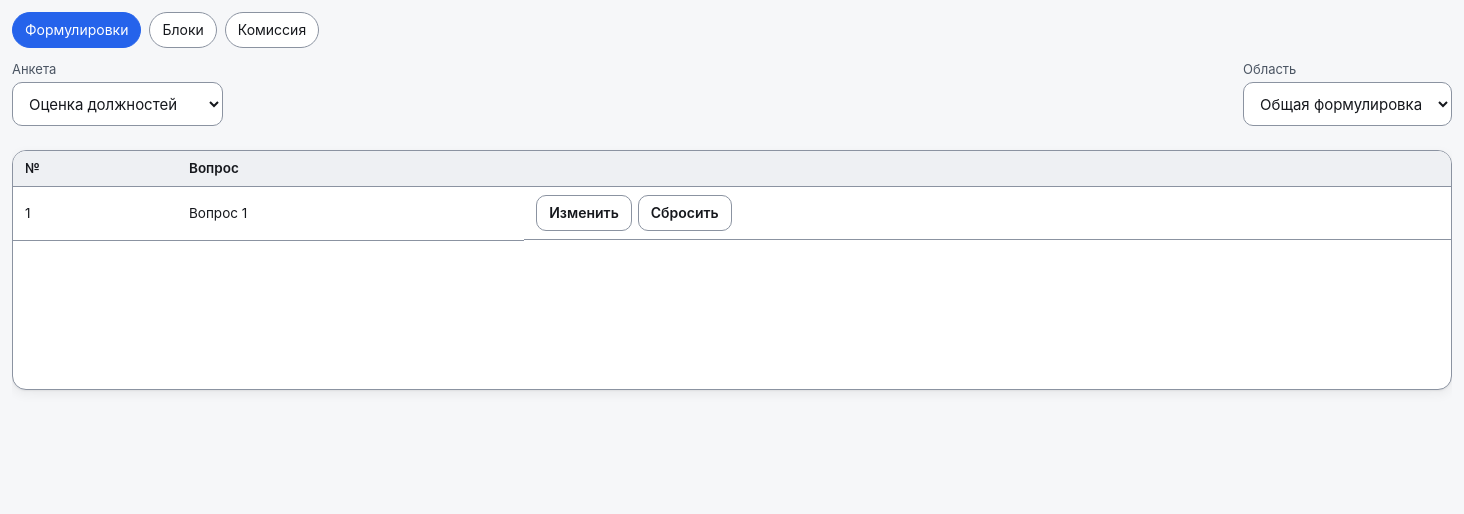
it: вкладки переключаются независимо
The width and height of the screenshot is (1464, 514).
Expected: the text "Вопрос 1" is shown, [177,187,524,240]
Click the button "Блоки". click: (183, 30)
box: [150,12,217,48]
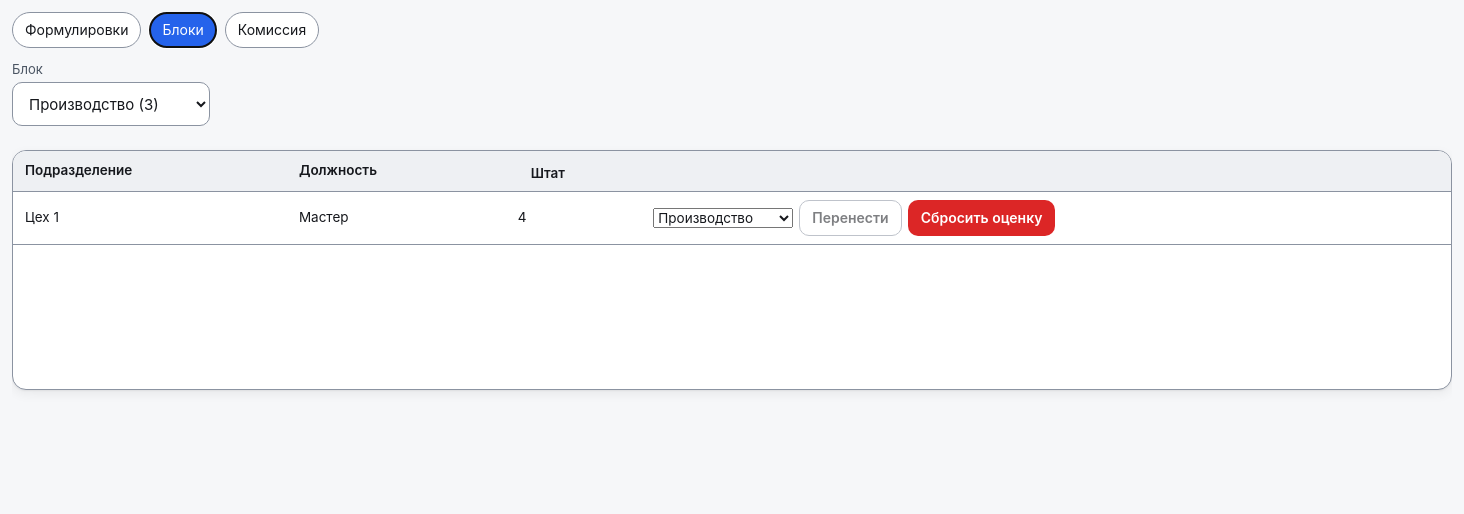
Now the text "Мастер" is shown, box [287,191,506,245]
Click the button "Комиссия". click: (272, 30)
box: [225,12,319,48]
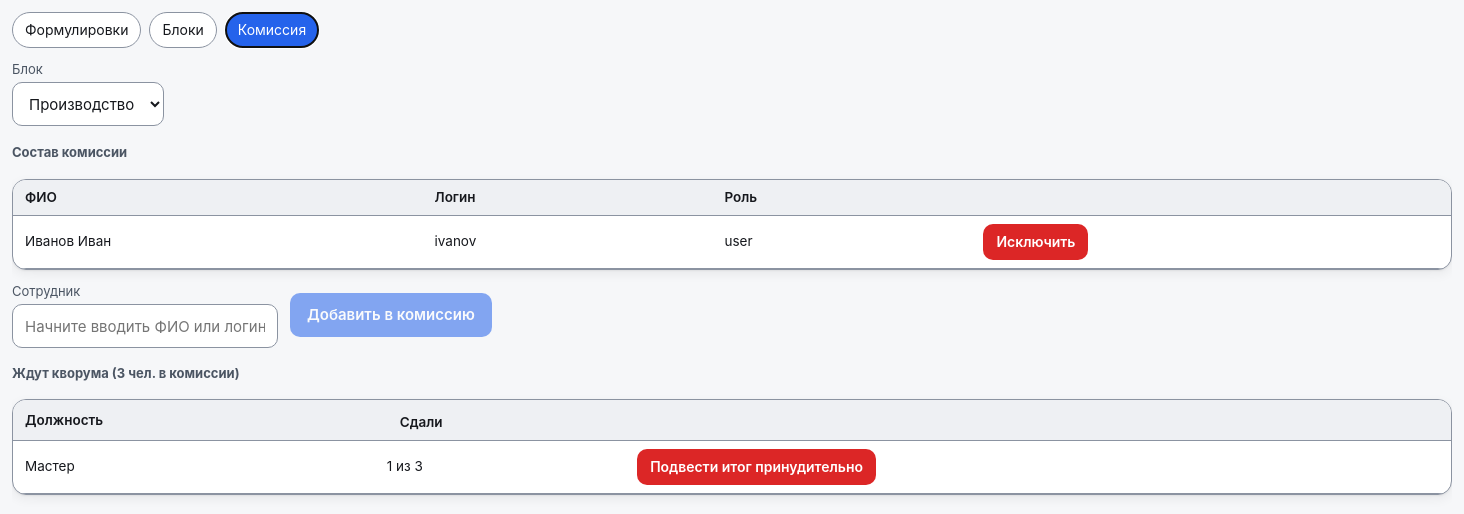
Now the text "Иванов Иван" is shown, box [13,215,422,268]
